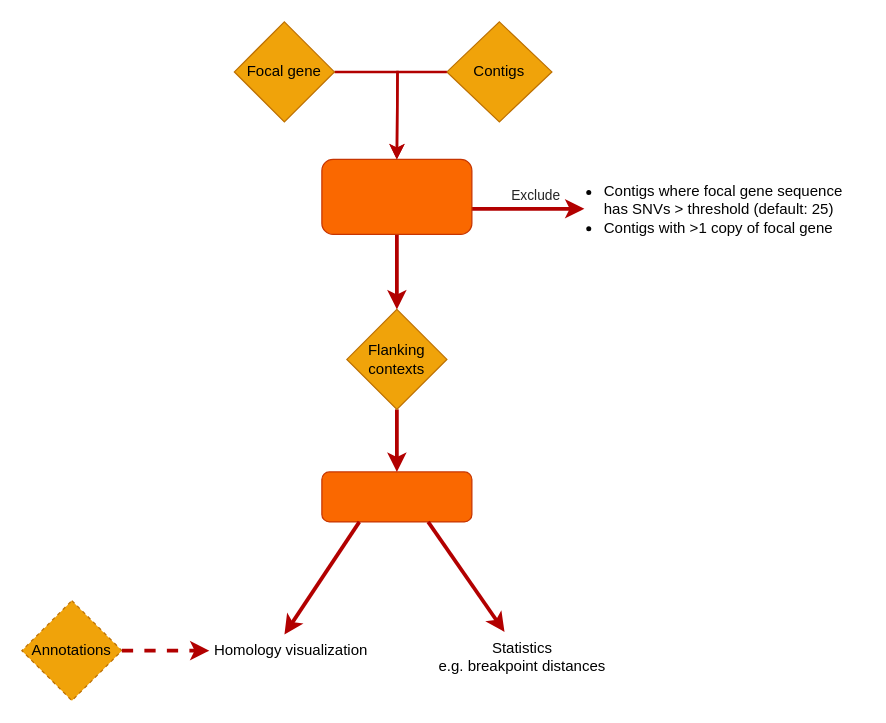
Image size: 886x723. Some labels were removed from this diagram. Here are the shapes that lost their labels. From the top down, the centre of each, then its label:
point (396, 196): Blast for gene and extract flanking contexts
point (396, 496): Construct pangraph
